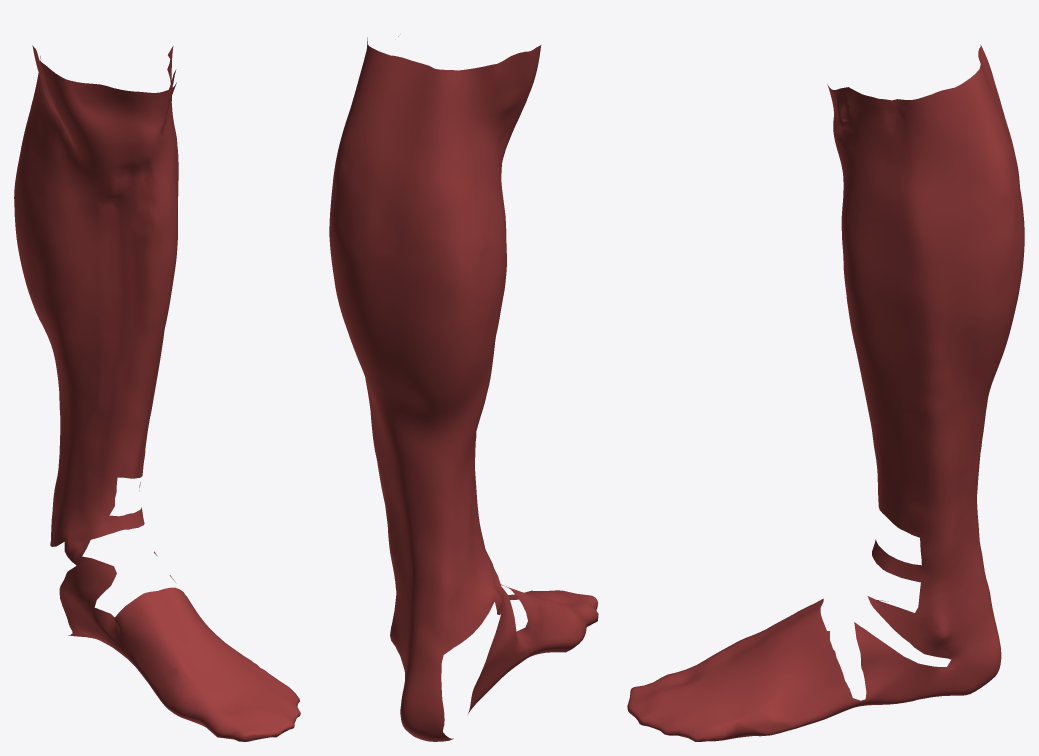
Rendered from crural-fascia-l.glb.
3 renders of one model, left to right at view 1: azimuth 30°, elevation 25°; view 2: azimuth 150°, elevation 25°; view 3: azimuth 270°, elevation 25°, orthographic. The views are drawn at different scales.
Visible parts, largest first — view 1: Crural fascia.l; view 2: Crural fascia.l; view 3: Crural fascia.l.
Boxes of the visible parts, x1,y1,x2,y2 form: Crural fascia.l: (14, 45, 300, 741); Crural fascia.l: (329, 36, 598, 741); Crural fascia.l: (627, 44, 1024, 741).
Size of the model in its own units: 0.1209 by 0.442 by 0.2446.
